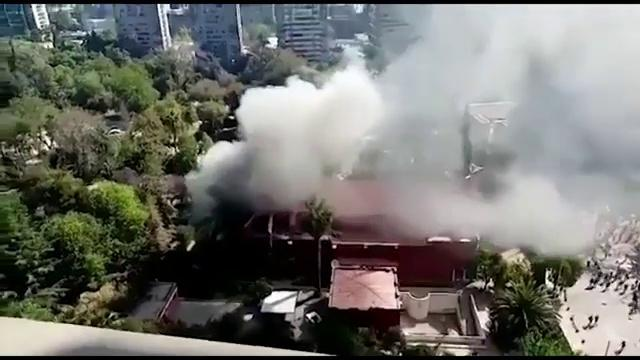smoke: (463, 11, 623, 113), (243, 110, 330, 194)
